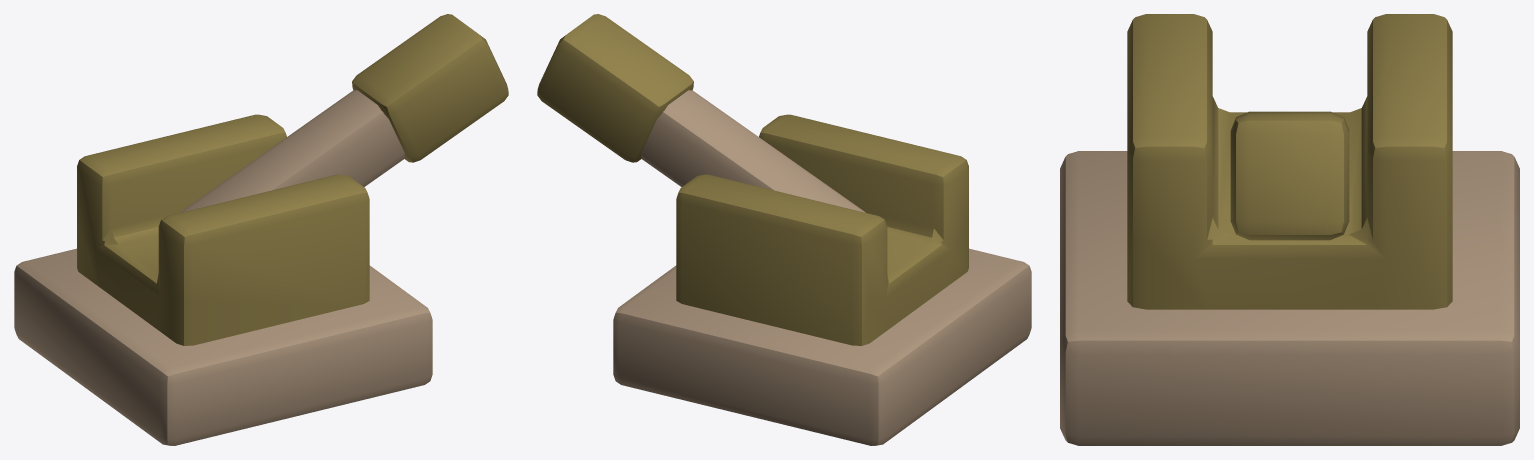
The model's file is quaternius-cube-world-lever-right.glb.
The picture shows the model from 3 angles, left to right: view 1: azimuth 30°, elevation 25°; view 2: azimuth 150°, elevation 25°; view 3: azimuth 270°, elevation 25°; orthographic projection. The views are drawn at different scales.
Visible parts, largest first — view 1: Lever_Right; view 2: Lever_Right; view 3: Lever_Right.
Part boxes in pixels (x1=…): Lever_Right: x1=14, y1=14, x2=508, y2=445; Lever_Right: x1=537, y1=14, x2=1031, y2=445; Lever_Right: x1=1060, y1=14, x2=1519, y2=445.
Bounding box in the file's own units: 1.97 × 1.3 × 1.32.
1 material, 1 textured.
